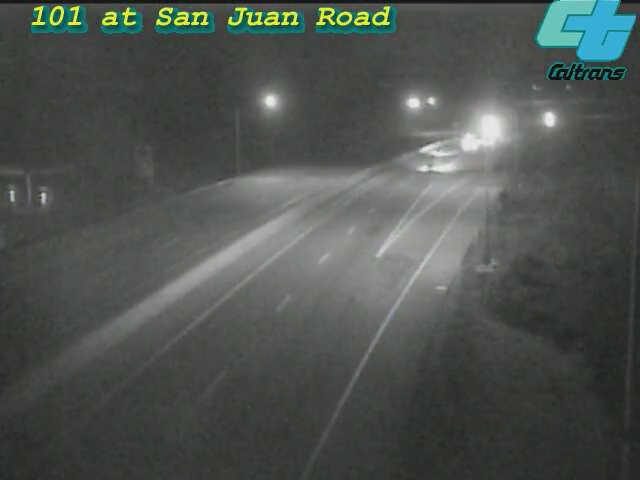vehicle: (392, 127, 472, 207), (461, 102, 511, 152), (523, 95, 573, 145), (445, 119, 495, 169), (415, 125, 465, 175)
